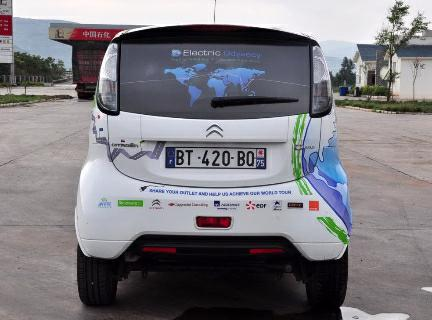雪铁龙-C-Zero: (69, 17, 358, 315)
